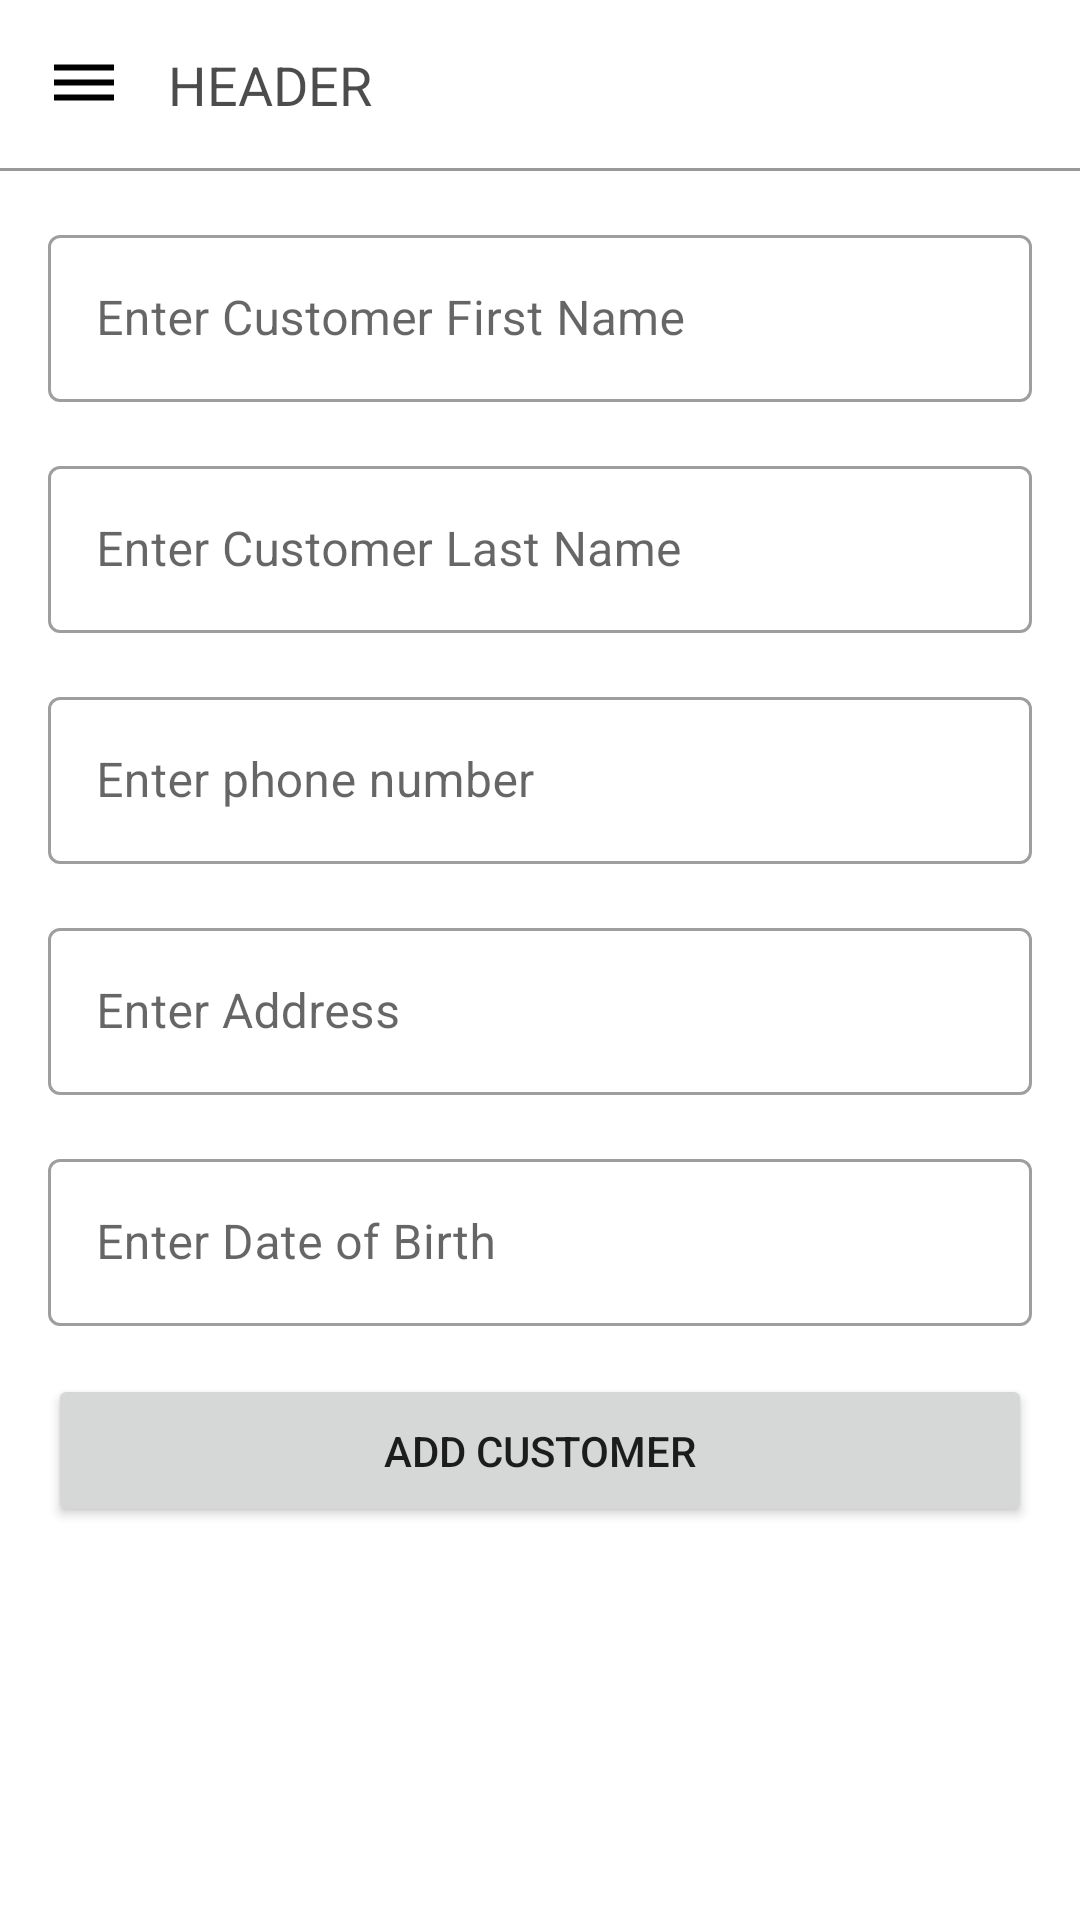

Point at icon controls on the screen. Image size 1080w x 1920h, points as (x,y).
menu: (84,82)
